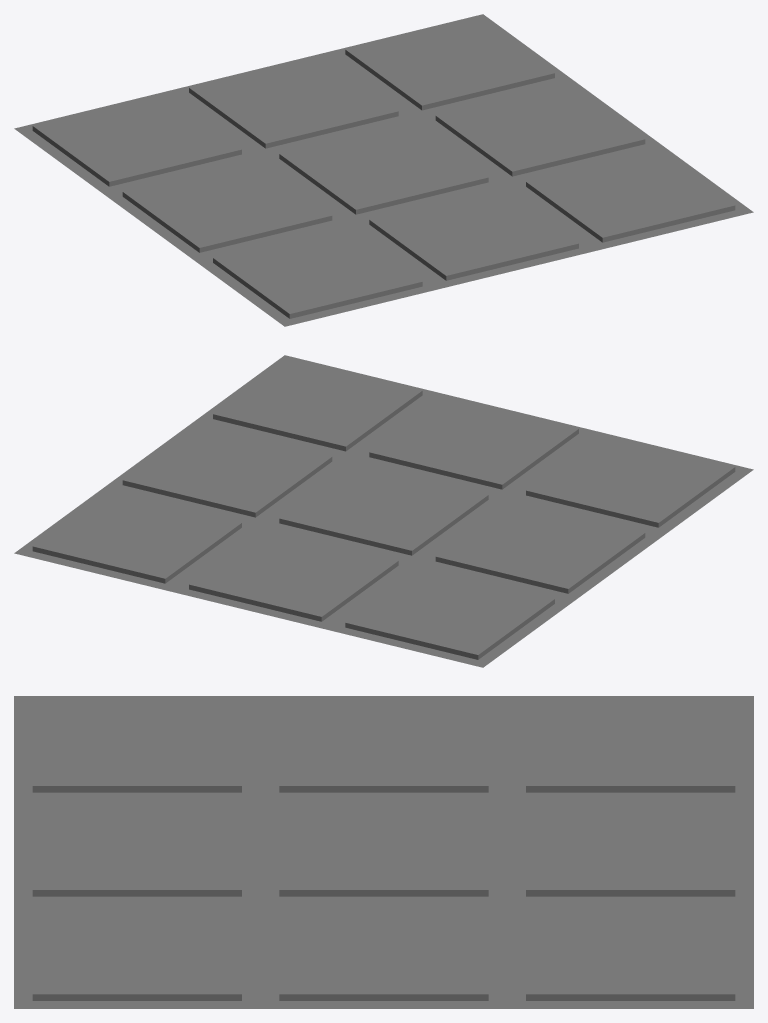
File: stone_floor1.fbx
3 renders of one model, top to bottom at view 1: azimuth 30°, elevation 25°; view 2: azimuth 150°, elevation 25°; view 3: azimuth 270°, elevation 25°, orthographic. The views are drawn at different scales.
Visible parts, largest first — view 1: stone_floor1; view 2: stone_floor1; view 3: stone_floor1.
Boxes of the visible parts, box(x1,y1,x2,y2) form: stone_floor1: box(14, 14, 753, 326); stone_floor1: box(14, 355, 753, 667); stone_floor1: box(14, 696, 753, 1008).
Size of the model in its own units: 200 by 2 by 200.
